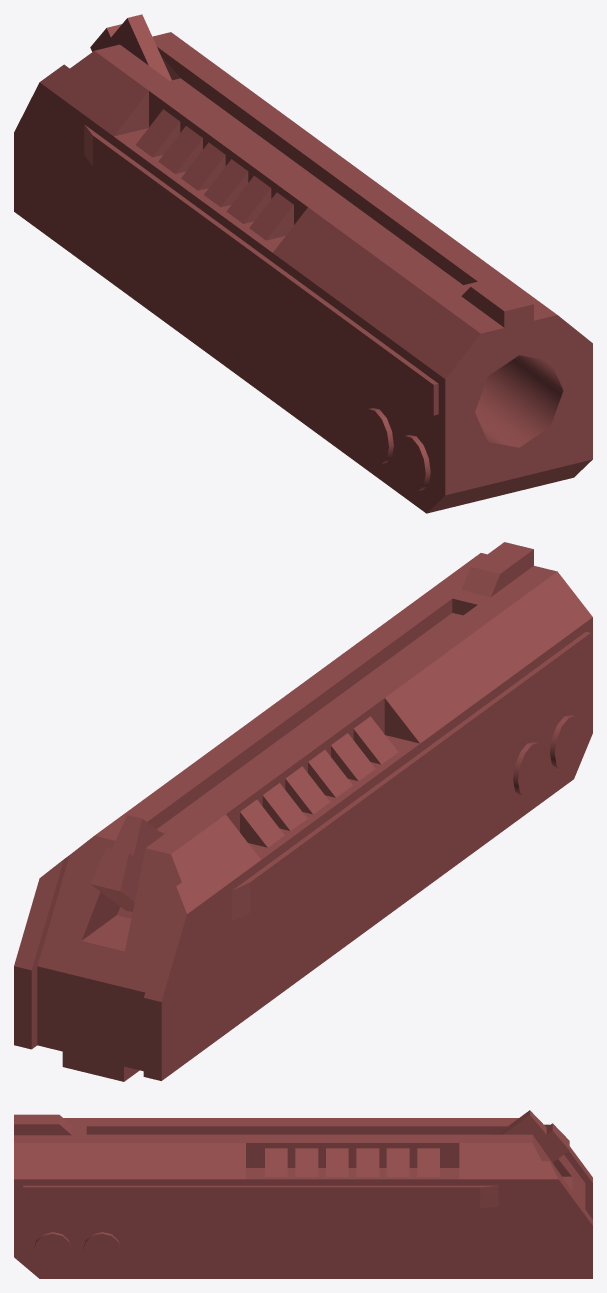
The model's file is WM0_Cannon_x1_LVL3.FBX.
3 views of the same model, one above another, from view 1: azimuth 30°, elevation 25°; view 2: azimuth 150°, elevation 25°; view 3: azimuth 270°, elevation 25° (orthographic). The views are drawn at different scales.
Parts seen in each view (by area): view 1: WM0_Cannon_x1_LVL3; view 2: WM0_Cannon_x1_LVL3; view 3: WM0_Cannon_x1_LVL3.
Part boxes in pixels (x1,y1,x2,y2): WM0_Cannon_x1_LVL3: [14, 14, 592, 513]; WM0_Cannon_x1_LVL3: [14, 542, 592, 1081]; WM0_Cannon_x1_LVL3: [14, 1110, 592, 1278].
Size of the model in its own units: 8 by 11.05 by 38.
